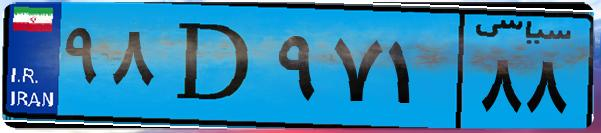1: (385, 28, 445, 110)
7: (330, 28, 385, 110)
8: (475, 38, 525, 113), (525, 38, 570, 115), (110, 28, 158, 98)
9: (270, 28, 330, 110), (57, 26, 110, 100)
D: (158, 12, 270, 120)
